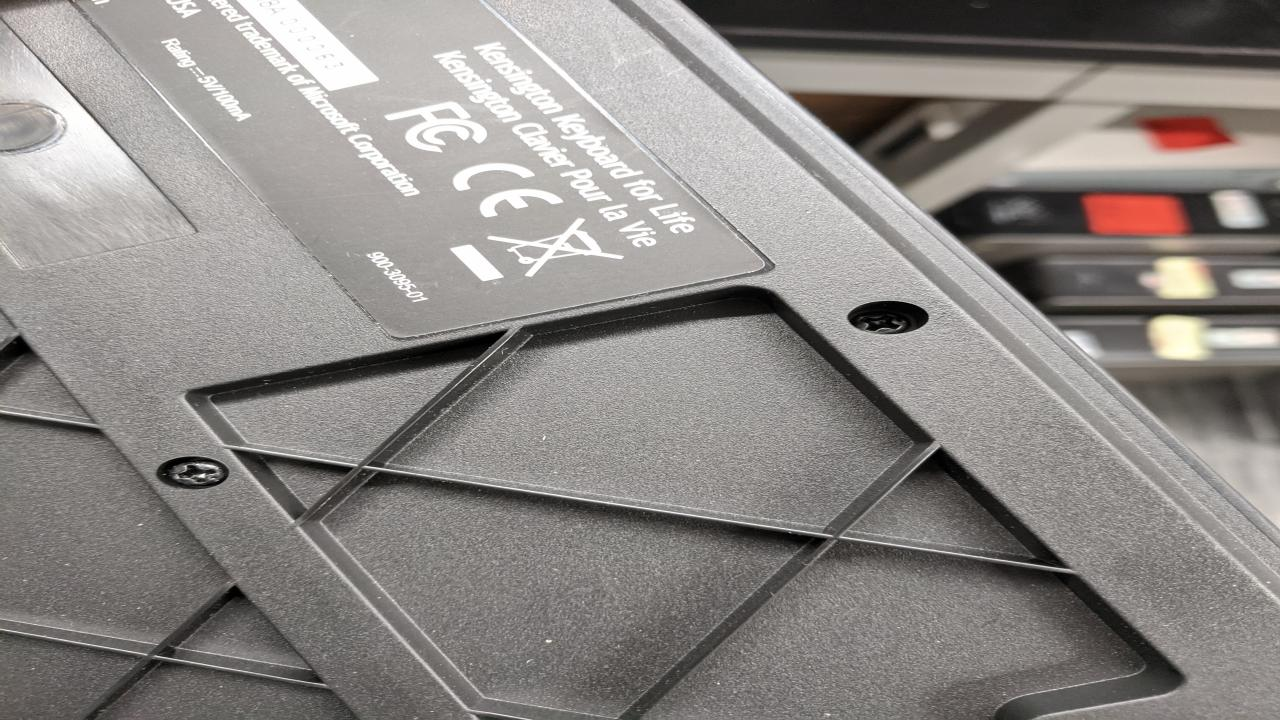CRS: (155, 457, 230, 488), (842, 307, 924, 335)
